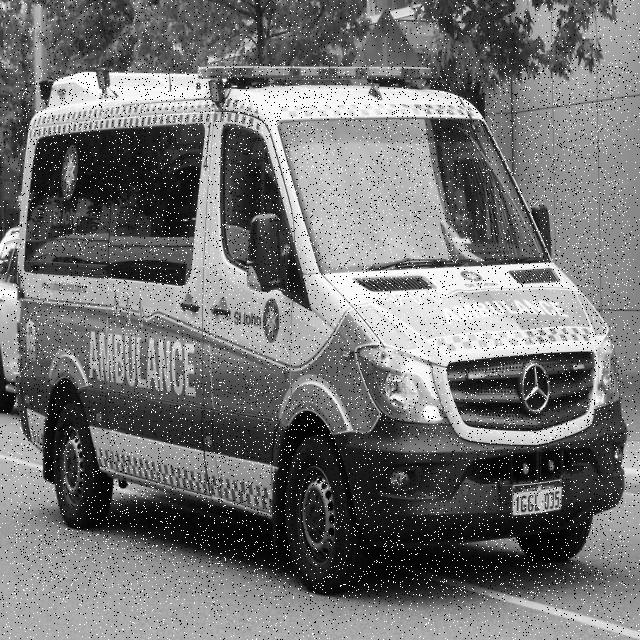Ambulance: (14, 63, 628, 598)
